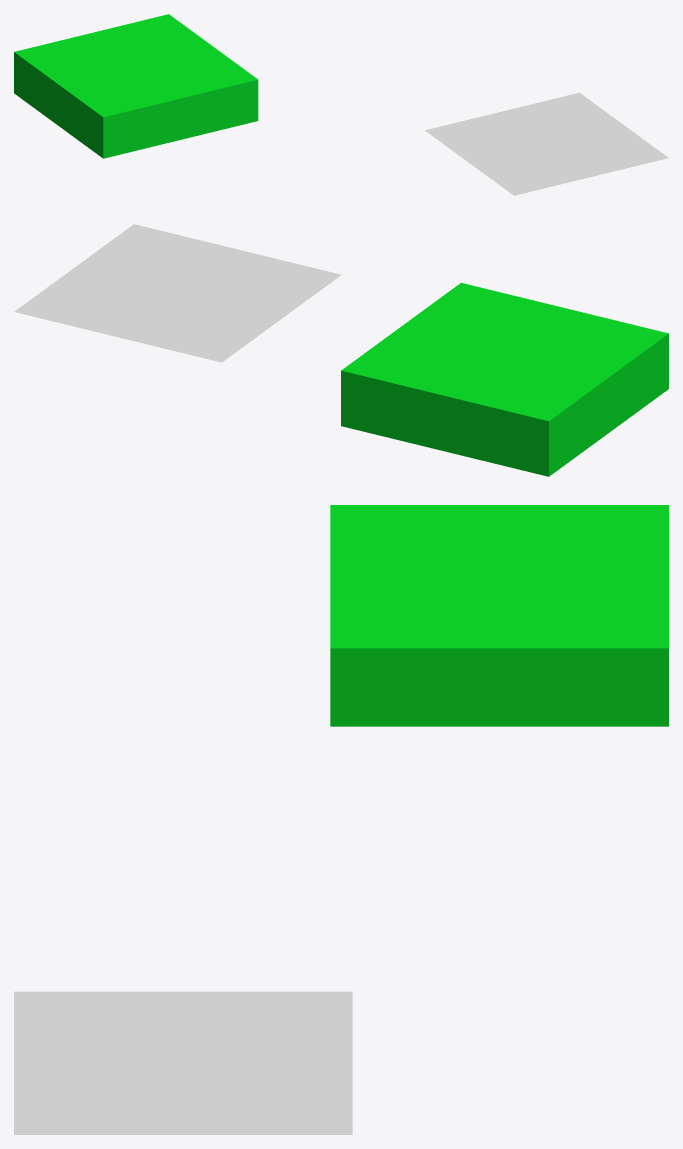
The picture shows the model from 3 angles, top to bottom: view 1: azimuth 30°, elevation 25°; view 2: azimuth 150°, elevation 25°; view 3: azimuth 270°, elevation 25°; orthographic projection. The views are drawn at different scales.
Visible parts, largest first — view 1: Cube.005, Plane; view 2: Cube.005, Plane; view 3: Cube.005, Plane.
Boxes of the visible parts, x1,y1,x2,y2 form: Cube.005: [14, 14, 258, 158]; Plane: [425, 92, 668, 195]; Cube.005: [341, 283, 668, 476]; Plane: [14, 224, 341, 362]; Cube.005: [330, 505, 668, 726]; Plane: [14, 991, 352, 1134].
Size of the model in its own units: 6.22 by 1.2 by 3.87.
